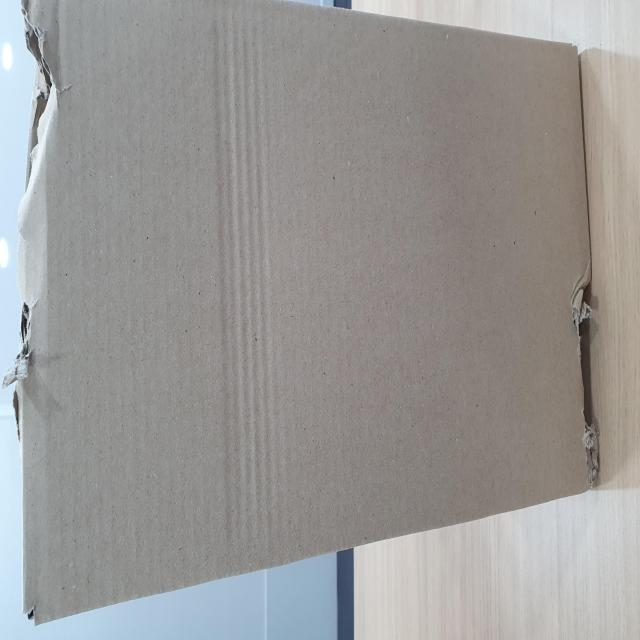damaged: (140, 26, 352, 112)
